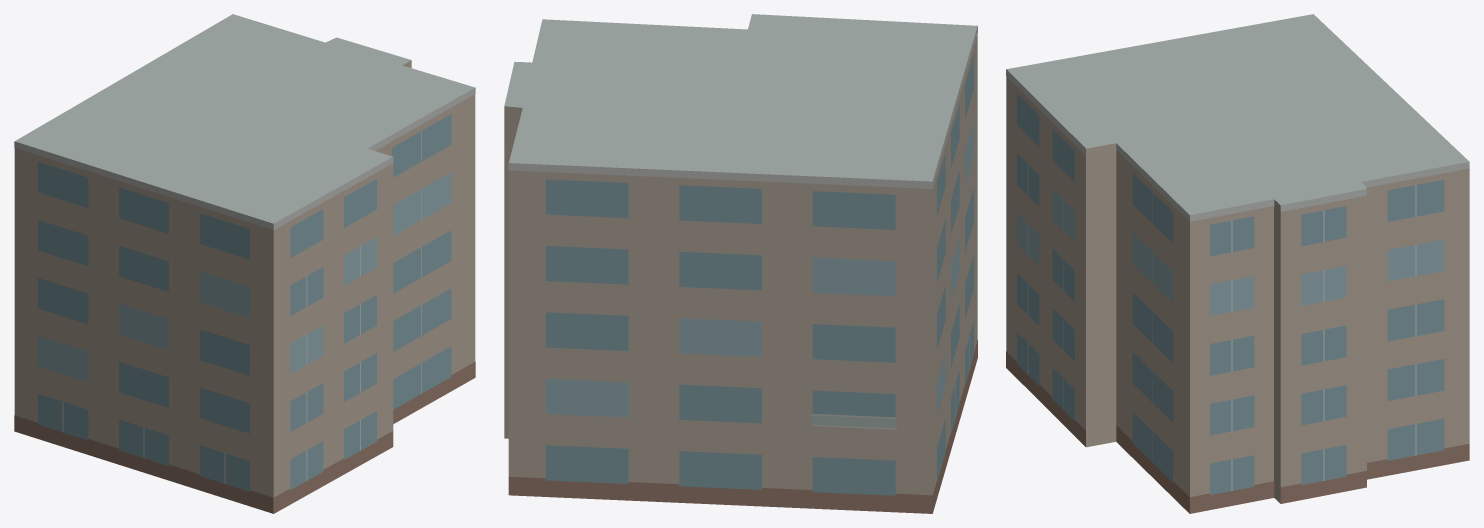
The model's file is survey-upis-32854648.glb.
The picture shows the model from 3 angles, left to right: view 1: azimuth 30°, elevation 25°; view 2: azimuth 150°, elevation 25°; view 3: azimuth 270°, elevation 25°; orthographic projection. The views are drawn at different scales.
Visible parts, largest first — view 1: survey-upis-32854648.tmp; view 2: survey-upis-32854648.tmp; view 3: survey-upis-32854648.tmp.
Boxes of the visible parts, x1,y1,x2,y2 form: survey-upis-32854648.tmp: (14,14,475,513); survey-upis-32854648.tmp: (504,14,977,513); survey-upis-32854648.tmp: (1006,14,1469,513).
Bounding box in the file's own units: 15.84 × 10.95 × 15.41.
